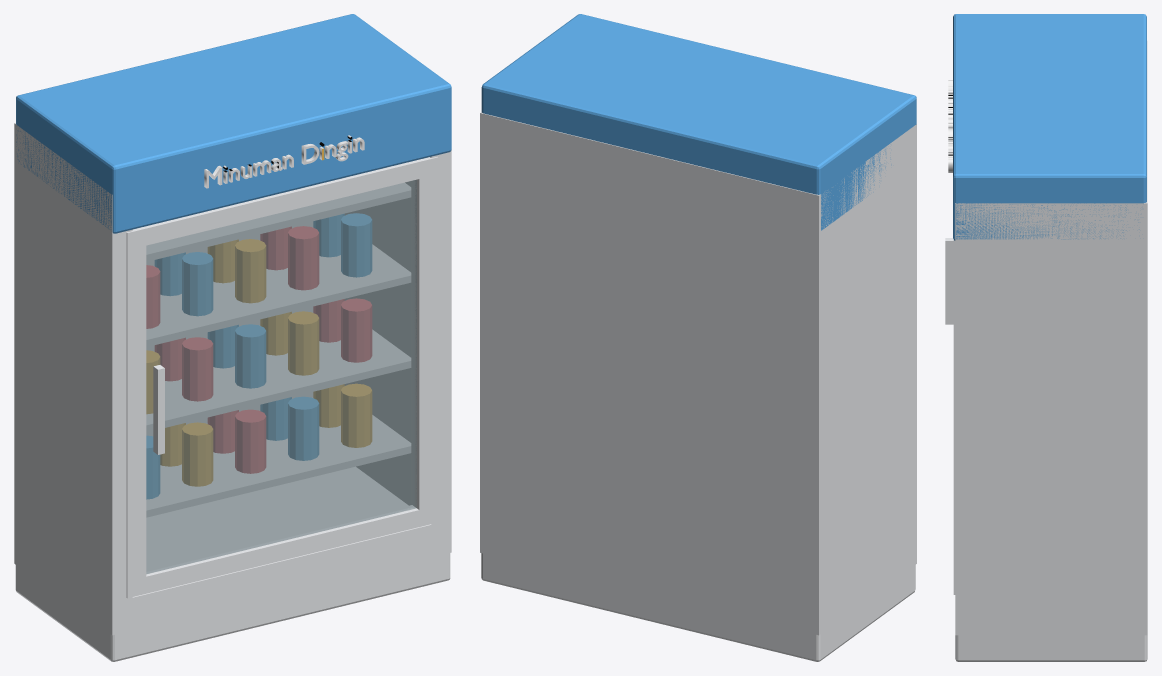
Rendered from kulkas_minuman.fbx.
The picture shows the model from 3 angles, left to right: view 1: azimuth 30°, elevation 25°; view 2: azimuth 150°, elevation 25°; view 3: azimuth 270°, elevation 25°; orthographic projection.
Parts seen in each view (by area): view 1: kulkas_minuman, Kaca.002; view 2: kulkas_minuman; view 3: kulkas_minuman.
Boxes of the visible parts, box(x1,y1,x2,y2) form: kulkas_minuman: box(14, 14, 451, 661); Kaca.002: box(146, 180, 416, 573); kulkas_minuman: box(480, 14, 916, 661); kulkas_minuman: box(945, 14, 1147, 661).
Size of the model in its own units: 500 by 700 by 263.
Materials: 2 (2 with a texture image).
